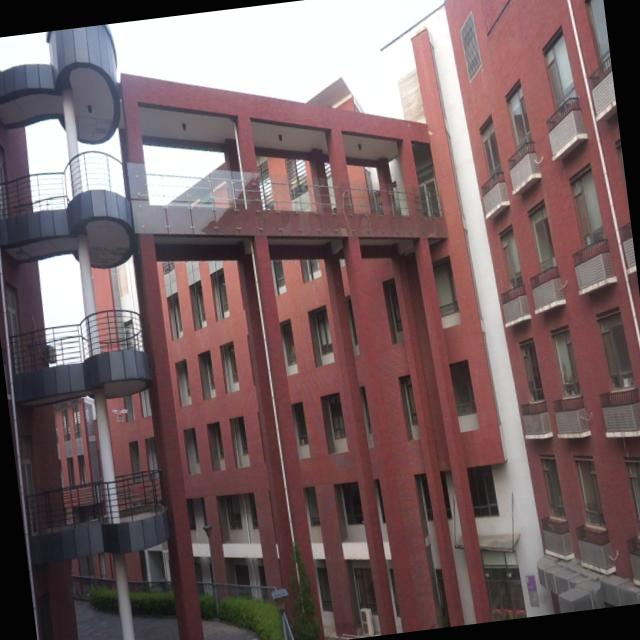drone: (110, 402, 131, 423)
